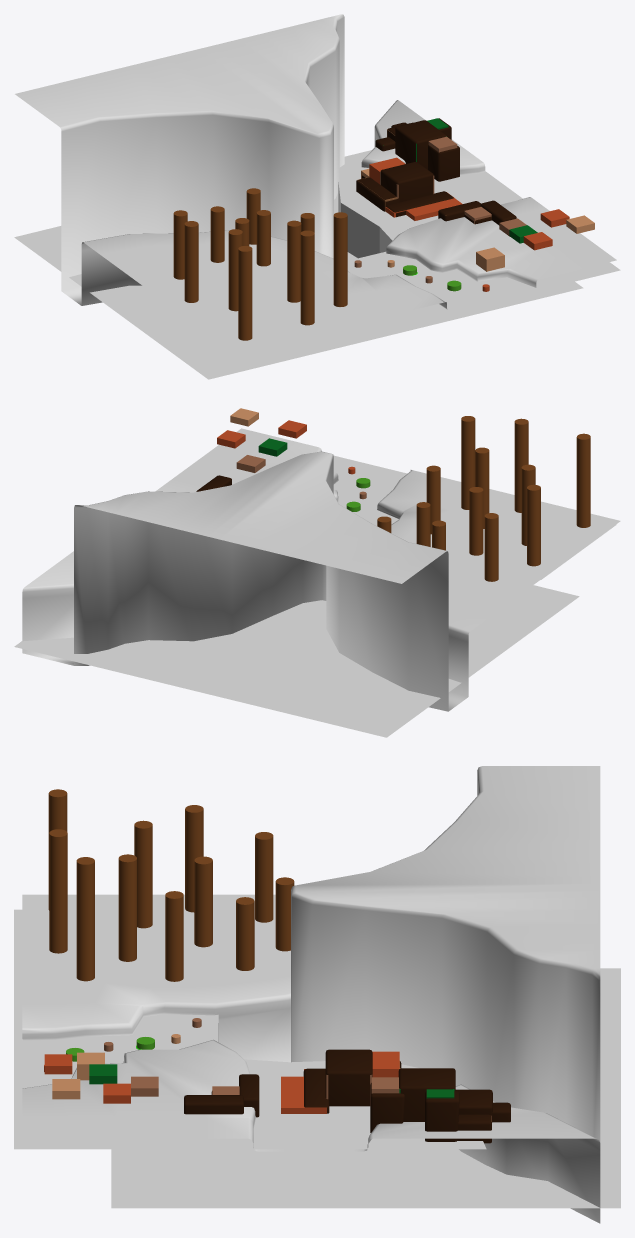
File: Tutorial_basic_smooth.FBX
3 views of the same model, one above another, from view 1: azimuth 30°, elevation 25°; view 2: azimuth 150°, elevation 25°; view 3: azimuth 270°, elevation 25° (orthographic). The views are drawn at different scales.
Visible parts, largest first — view 1: Ground, Water, Tutorial, Island_1, Hill_1, Hill_2; view 2: Ground, Water, Tutorial; view 3: Ground, Water, Tutorial, Hill_1, Island_1, Hill_2.
Part boxes in pixels (x1,y1,x2,y2): Ground: (15,14,616,353); Water: (14,150,620,379); Tutorial: (173,118,594,340); Island_1: (356,162,453,217); Hill_1: (375,118,459,181); Hill_2: (438,200,516,225); Ground: (22,428,620,711); Water: (14,455,616,737); Tutorial: (217,408,590,581); Ground: (22,766,600,1223); Water: (14,909,620,1208); Tutorial: (44,789,491,1121); Hill_1: (370,1068,510,1143); Island_1: (303,1049,401,1113); Hill_2: (184,1074,259,1117).
Bounding box in the file's own units: 12517 × 5096 × 13130.
